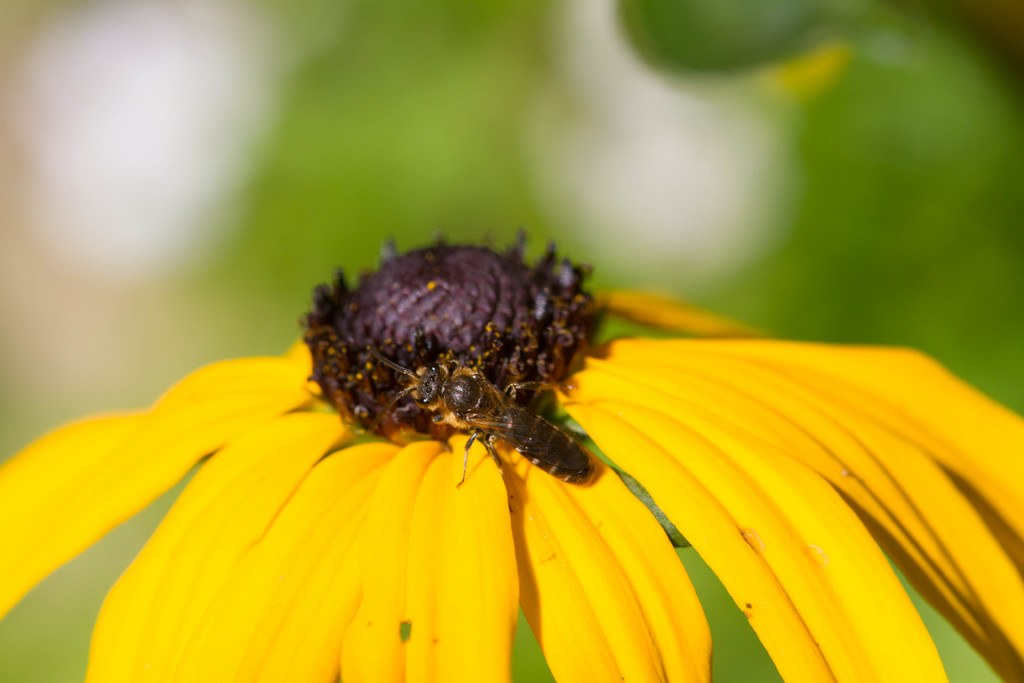bee: (314, 236, 817, 533)
insect: (288, 209, 832, 539)
